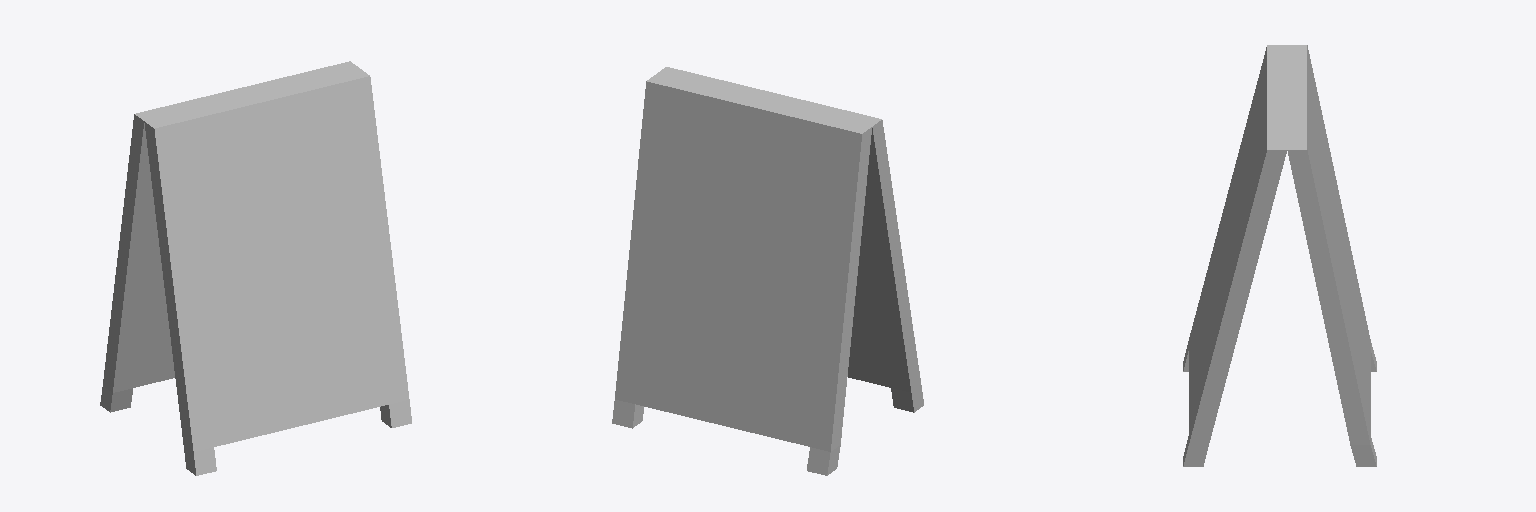
The model's file is 17_CityB_Menu_Sign_v1.obj.
3 views of the same model, side by side, from view 1: azimuth 30°, elevation 25°; view 2: azimuth 150°, elevation 25°; view 3: azimuth 270°, elevation 25° (orthographic).
Parts seen in each view (by area): view 1: MenuSign; view 2: MenuSign; view 3: MenuSign.
Boxes of the visible parts, x1=… form: MenuSign: x1=100, y1=61, x2=411, y2=475; MenuSign: x1=612, y1=67, x2=923, y2=475; MenuSign: x1=1183, y1=45, x2=1376, y2=466.
Bounding box in the file's own units: 1.53 × 2.15 × 1.19.